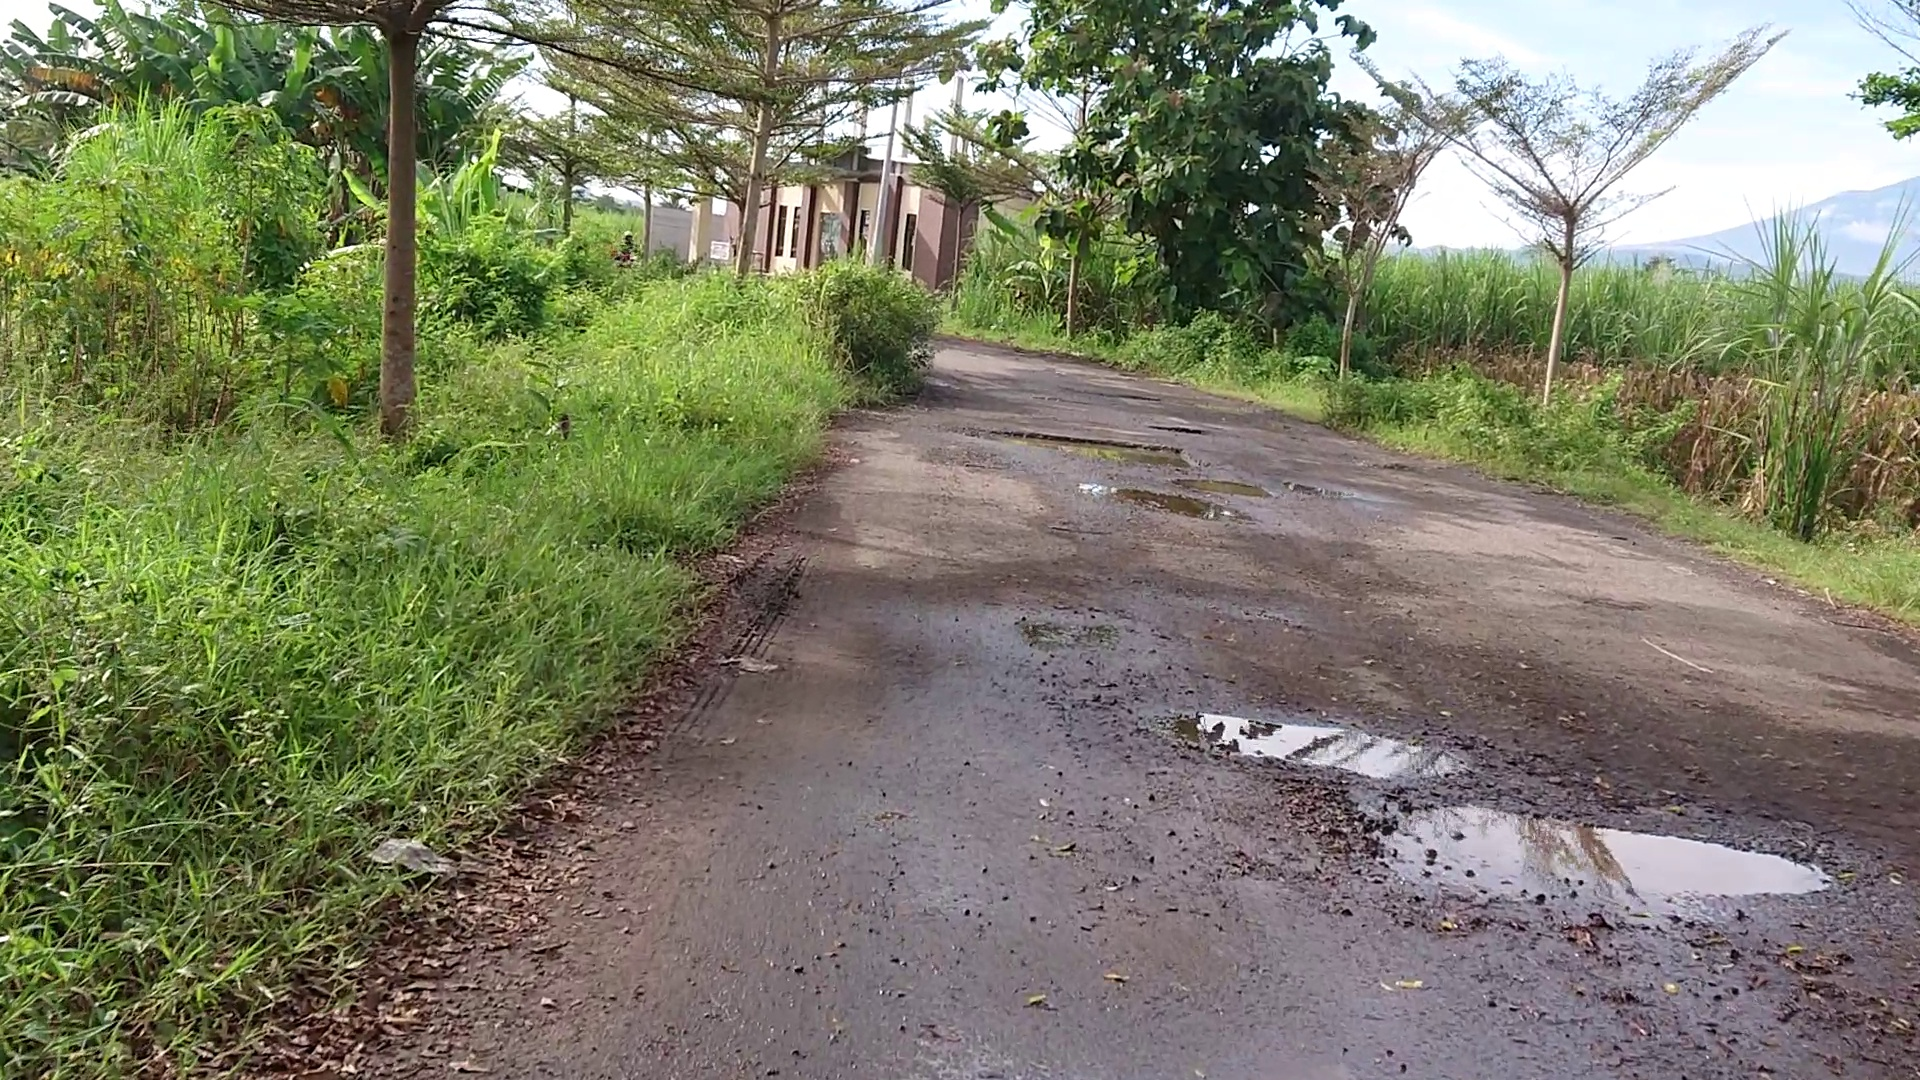Berlubang: (1369, 787, 1845, 897), (1009, 433, 1294, 533), (1164, 707, 1457, 775)
